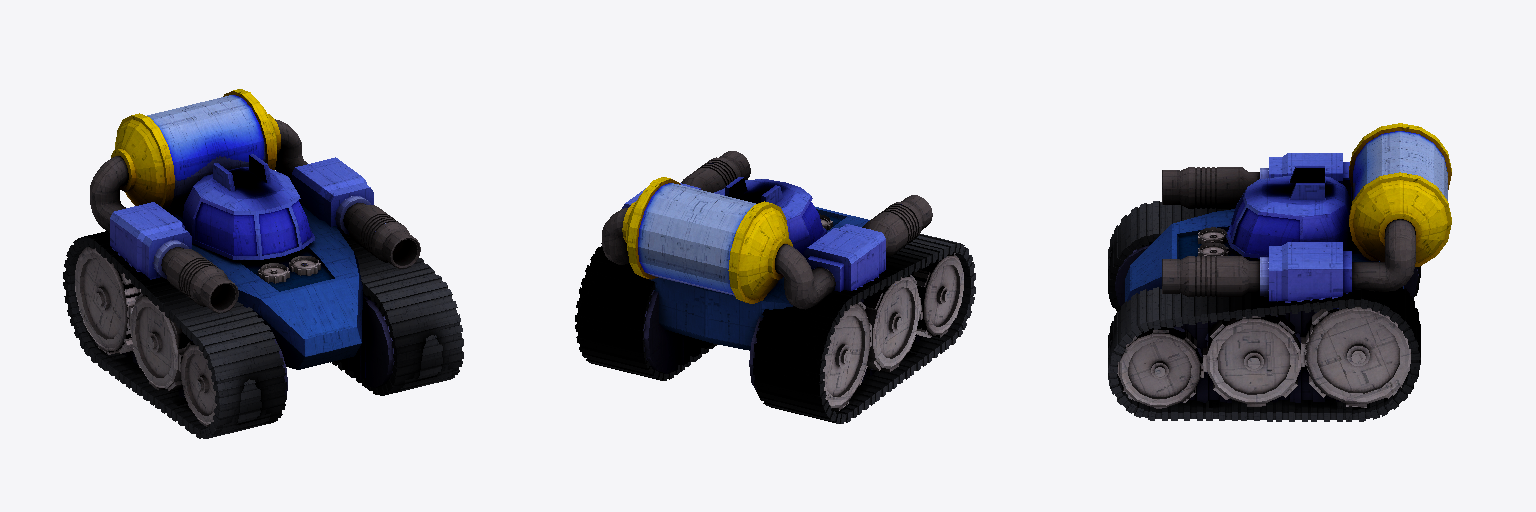
The picture shows the model from 3 angles: view 1: azimuth 30°, elevation 25°; view 2: azimuth 150°, elevation 25°; view 3: azimuth 270°, elevation 25°; orthographic projection.
Parts seen in each view (by area): view 1: Object001, Box042, Object004, Object003, Object002; view 2: Object001, Box042, Object003, Object004, Object002; view 3: Object001, Box042, Object004, Object003, Object002.
Boxes of the visible parts, <box> form: Object001: <box>90,89,420,399</box>; Box042: <box>63,231,463,438</box>; Object004: <box>75,246,140,354</box>; Object003: <box>130,293,190,391</box>; Object002: <box>180,341,216,426</box>; Object001: <box>602,151,932,390</box>; Box042: <box>575,234,975,423</box>; Object003: <box>863,275,920,371</box>; Object004: <box>823,302,871,411</box>; Object002: <box>913,253,963,337</box>; Object001: <box>1115,123,1451,402</box>; Box042: <box>1108,201,1420,421</box>; Object004: <box>1301,306,1410,407</box>; Object003: <box>1203,315,1304,406</box>; Object002: <box>1117,327,1203,408</box>.
Bounding box in the file's own units: 121 × 100 × 147.
2 materials, 2 textured.